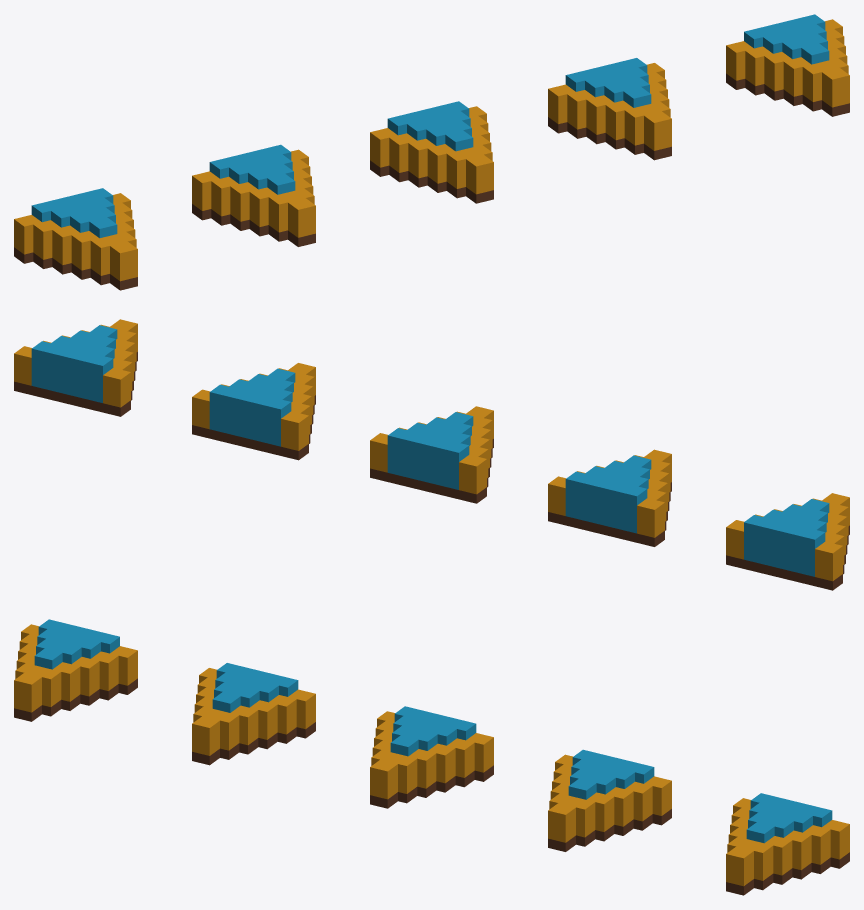
File: arrow_5.obj
3 renders of one model, top to bottom at view 1: azimuth 30°, elevation 25°; view 2: azimuth 150°, elevation 25°; view 3: azimuth 330°, elevation 25°, orthographic.
Bounding box in the file's own units: 9.2 × 0.5 × 1.2.
Materials: 1 (1 with a texture image).
